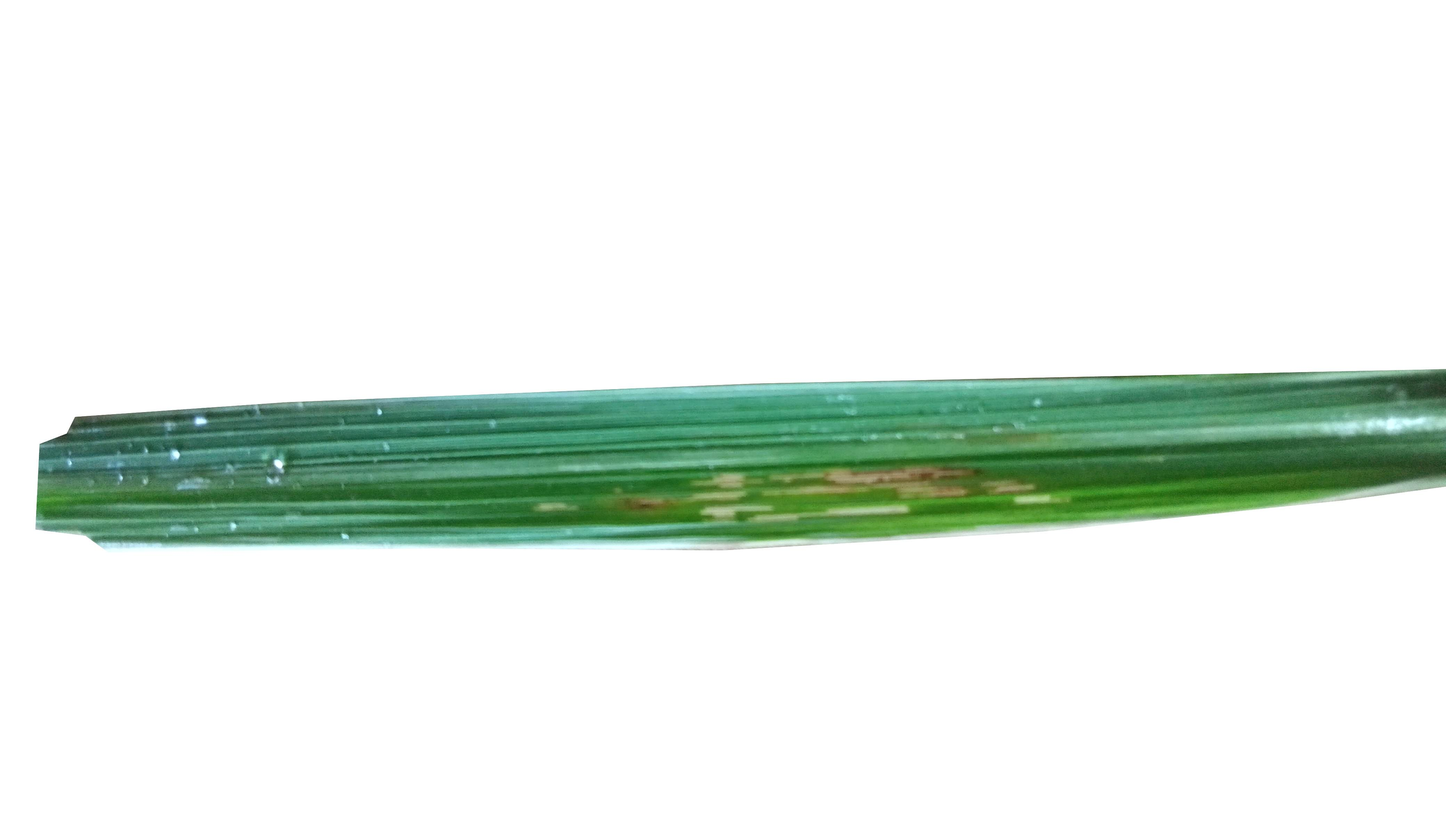Blight: (626, 422, 1039, 526)
